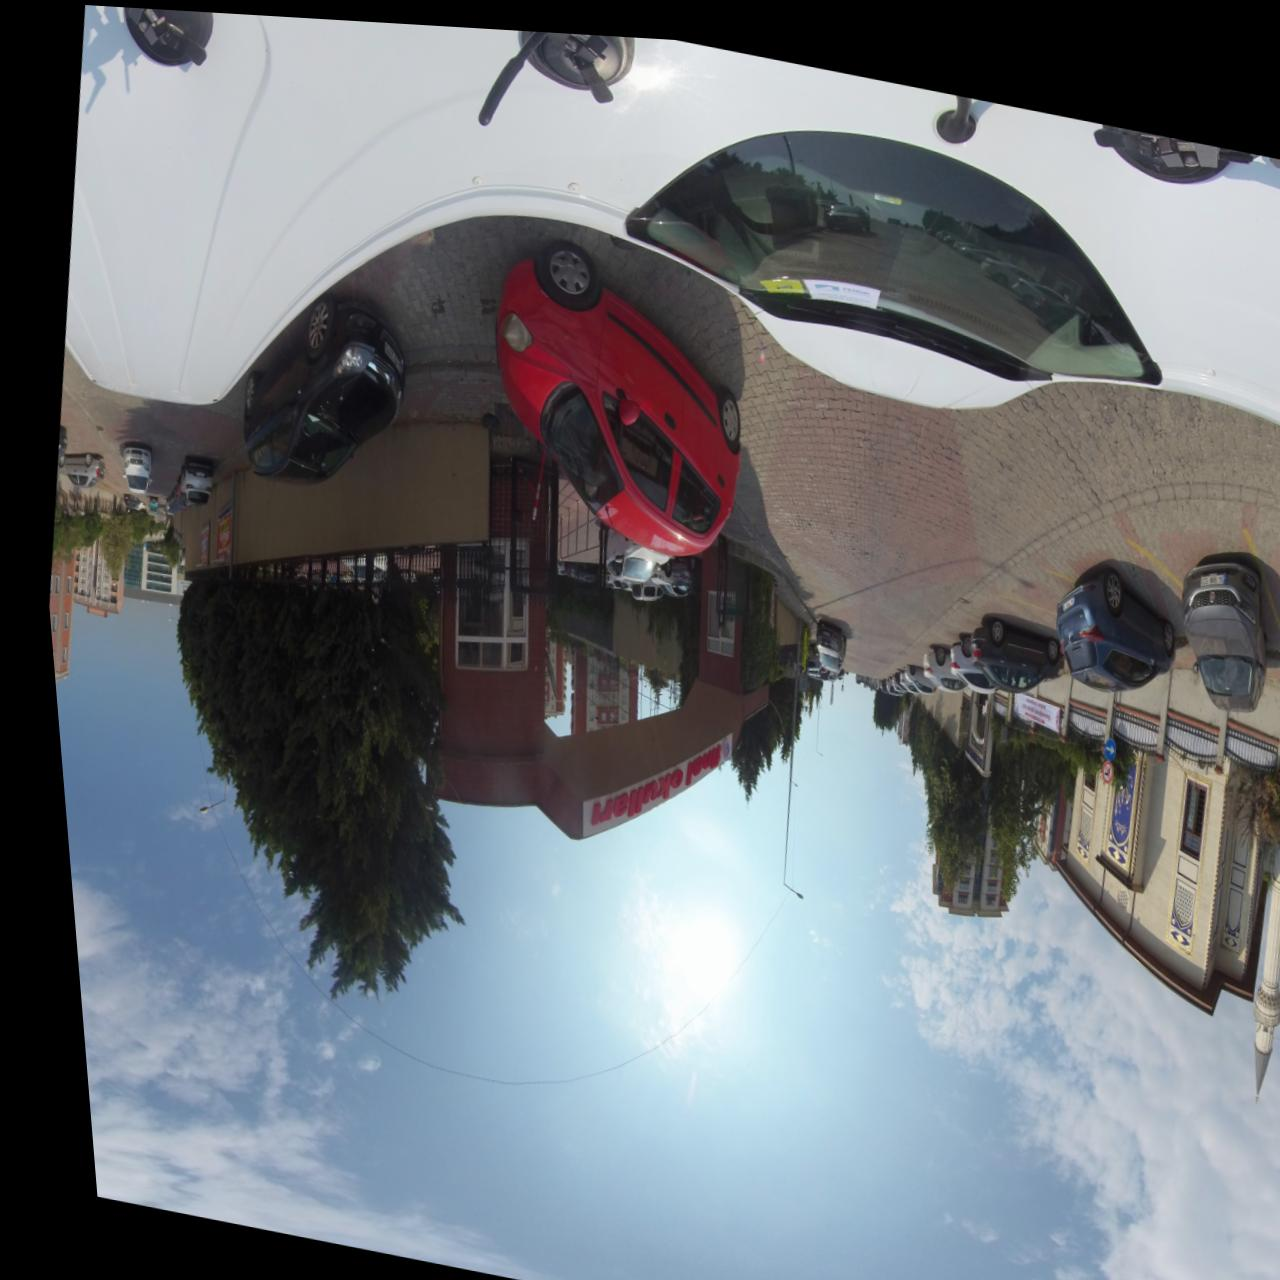SignStore: (577, 720, 720, 830)
